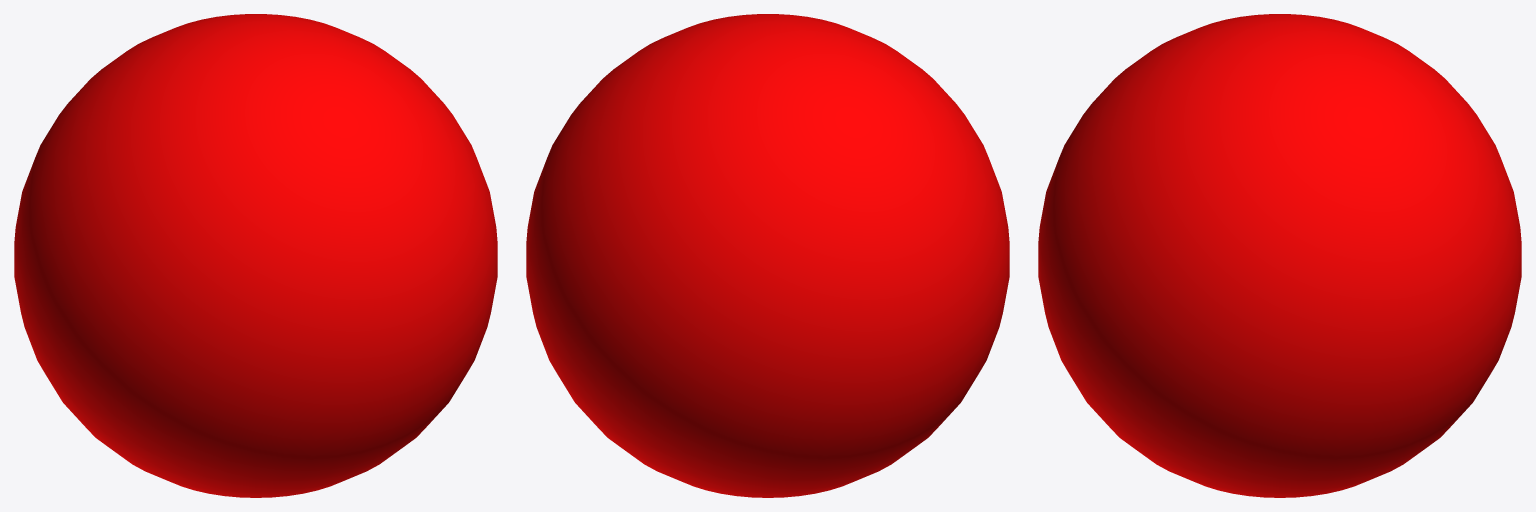
3 views of the same model, side by side, from view 1: azimuth 30°, elevation 25°; view 2: azimuth 150°, elevation 25°; view 3: azimuth 270°, elevation 25° (orthographic).
Visible parts, largest first — view 1: ID2; view 2: ID2; view 3: ID2.
Boxes of the visible parts, left/top/right/bottom form: ID2: left=14, top=14, right=497, bottom=497; ID2: left=526, top=14, right=1009, bottom=497; ID2: left=1038, top=14, right=1521, bottom=497.
Size of the model in its own units: 0.4977 by 0.498 by 0.5.
